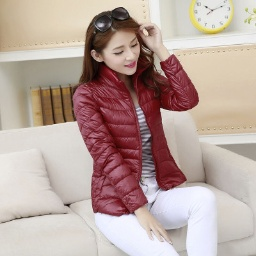face: (80, 7, 152, 80)
